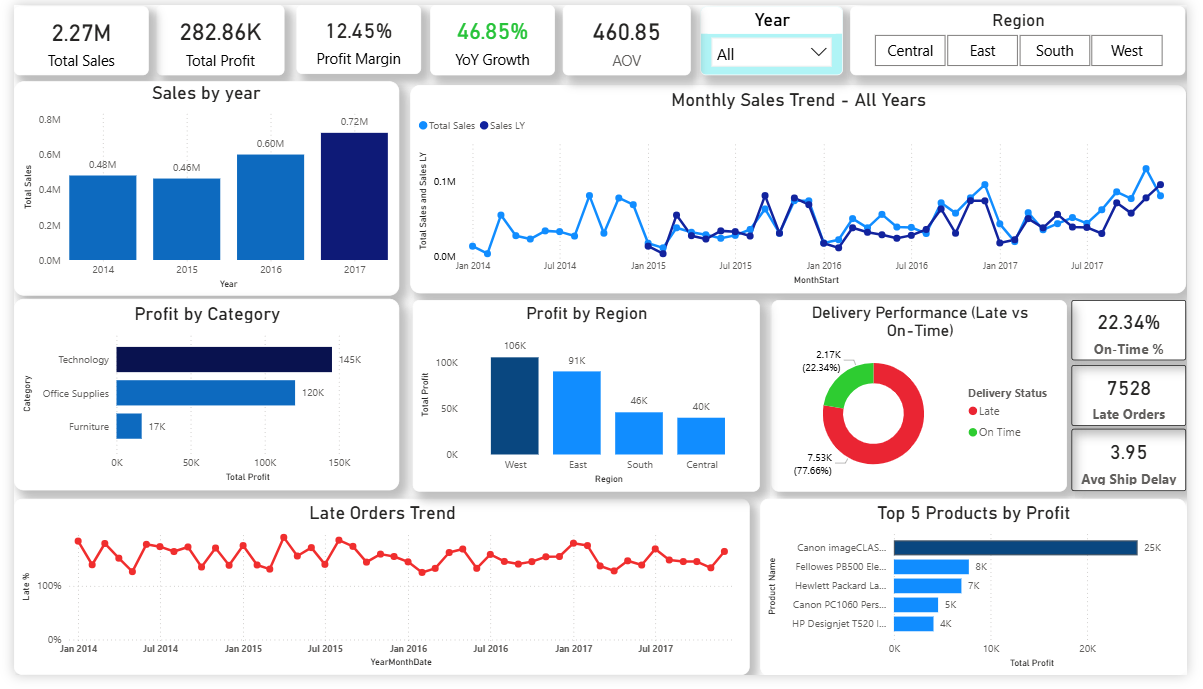

The dashboard page shown, as its layout file describes it:
{"tool":"powerbi","page":{"name":"Page 1","canvas":[1400,800],"ordinal":0},"visuals":[{"type":"card","fields":{"Values":["ecommerce sales.Total Profit"]},"box":[170.4,0,152.8,83.8],"z":0},{"type":"card","fields":{"Values":["ecommerce sales.Profit Margin %"]},"box":[336.7,0,148.7,82.5],"z":1000},{"type":"card","fields":{"Values":["ecommerce sales.Total Sales"]},"box":[0,1.4,160.9,82.5],"z":2000},{"type":"card","fields":{"Values":["Date Table.YoY Growth %"]},"box":[497.6,0,148.7,83.8],"z":3000},{"type":"clusteredColumnChart","title":"Sales by year","fields":{"Category":["Date Table.Year"],"Y":["ecommerce sales.Total Sales"]},"box":[0,91.6,460.4,255.6],"z":4000},{"type":"lineChart","fields":{"Y":["ecommerce sales.Total Sales","Date Table.Sales LY"],"Category":["Date Table.MonthStart"]},"box":[473.2,96,926.2,248.8],"z":5000},{"type":"slicer","title":"Year","fields":{"Values":["Date Table.Year"]},"box":[819.4,1.4,170.4,82.5],"z":6000},{"type":"barChart","title":"Profit by Category","fields":{"Category":["ecommerce sales.Category"],"Y":["ecommerce sales.Total Profit"]},"box":[0,351,460.4,228.9],"z":7000},{"type":"card","fields":{"Values":["ecommerce sales.Avg Ship Delay"]},"box":[1262.9,505.7,136.6,74.4],"z":8000},{"type":"card","fields":{"Values":["ecommerce sales.Late Orders"]},"box":[1262.9,430,136.6,73],"z":9000},{"type":"card","fields":{"Values":["ecommerce sales.On-Time %"]},"box":[1262.9,351.5,136.6,71.7],"z":10000},{"type":"donutChart","title":"Delivery Performance (Late vs On-Time)","fields":{"Category":["ecommerce sales.Delivery Status"],"Y":["CountNonNull(ecommerce sales.Order ID)"]},"box":[904.6,351.5,352.9,228.5],"z":11000},{"type":"lineChart","title":"Late Orders Trend","fields":{"Y":["ecommerce sales.Late %"],"Category":["ecommerce sales.YearMonthDate"]},"box":[0,590.1,878.4,210.1],"z":12000},{"type":"slicer","title":"Region","fields":{"Values":["ecommerce sales.Region"]},"box":[1141.9,803.4,826.1,237.5],"z":13000},{"type":"clusteredColumnChart","title":"Profit by Region","fields":{"Y":["ecommerce sales.Total Profit"],"Category":["ecommerce sales.Region"]},"box":[476.5,351.9,414.2,228.5],"z":14000},{"type":"card","fields":{"Values":["ecommerce sales.AOV"]},"box":[655.8,0,152.8,83.8],"z":15000},{"type":"clusteredBarChart","title":"Top 5 Products by Profit","fields":{"Category":["ecommerce sales.Product Name"],"Y":["ecommerce sales.Total Profit"]},"box":[891,589.5,508.4,210.9],"z":16000},{"type":"slicer","title":"Region","fields":{"Values":["ecommerce sales.Region"]},"box":[999.2,1.4,400.2,82.5],"z":17000}]}

Visuals, with their boxes in screenshot pixels (x1, y1, x2, y2), scaled from the page's 1400x800 canvas onto the 1203x689 screenshot:
card - ecommerce sales.Total Profit: select_region(146, 0, 278, 72)
card - ecommerce sales.Profit Margin %: select_region(289, 0, 417, 71)
card - ecommerce sales.Total Sales: select_region(0, 1, 138, 72)
card - Date Table.YoY Growth %: select_region(428, 0, 555, 72)
"Sales by year" clusteredColumnChart: select_region(0, 79, 396, 299)
lineChart - ecommerce sales.Total Sales x Date Table.Sales LY: select_region(407, 83, 1202, 297)
"Year" slicer: select_region(704, 1, 851, 72)
"Profit by Category" barChart: select_region(0, 302, 396, 499)
card - ecommerce sales.Avg Ship Delay: select_region(1085, 436, 1202, 500)
card - ecommerce sales.Late Orders: select_region(1085, 370, 1202, 433)
card - ecommerce sales.On-Time %: select_region(1085, 303, 1202, 364)
"Delivery Performance (Late vs On-Time)" donutChart: select_region(777, 303, 1081, 500)
"Late Orders Trend" lineChart: select_region(0, 508, 755, 688)
"Profit by Region" clusteredColumnChart: select_region(409, 303, 765, 500)
card - ecommerce sales.AOV: select_region(564, 0, 695, 72)
"Top 5 Products by Profit" clusteredBarChart: select_region(766, 508, 1202, 688)
"Region" slicer: select_region(859, 1, 1202, 72)
